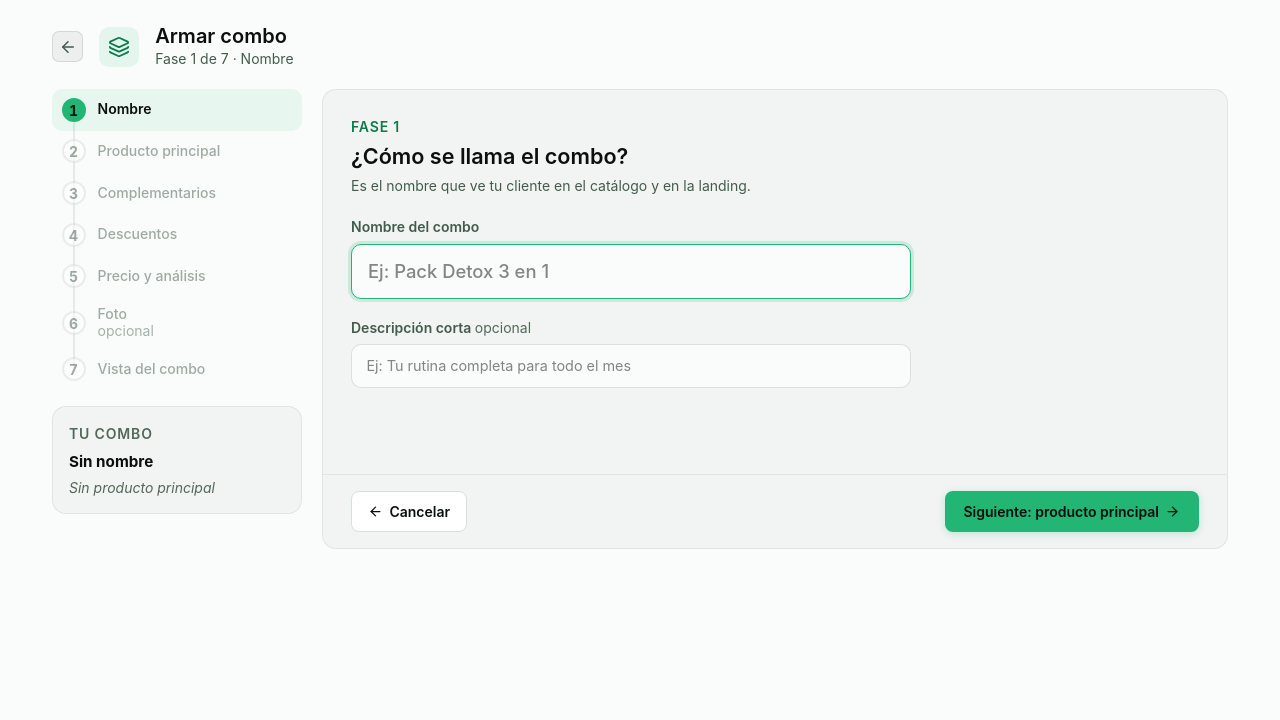
Scenario: Precios de venta durante el armado del combo › muestra el error del servidor y restaura el precio anterior
Step 1. Type "Combo cocina QA" into the field with placeholder "Ej: Pack Detox 3 en 1" → (631, 271), box [351,244,911,299]
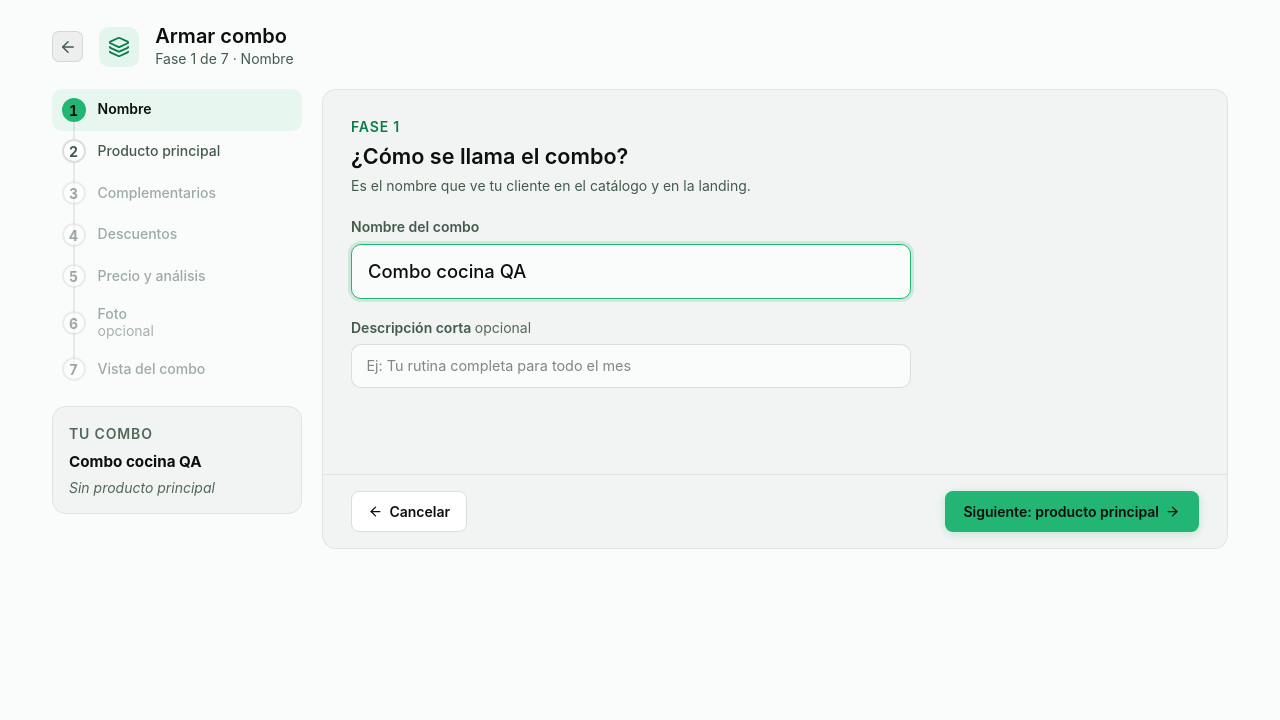
Step 2. Click the button "Siguiente: producto principal" → (1072, 512), box [945,491,1199,532]
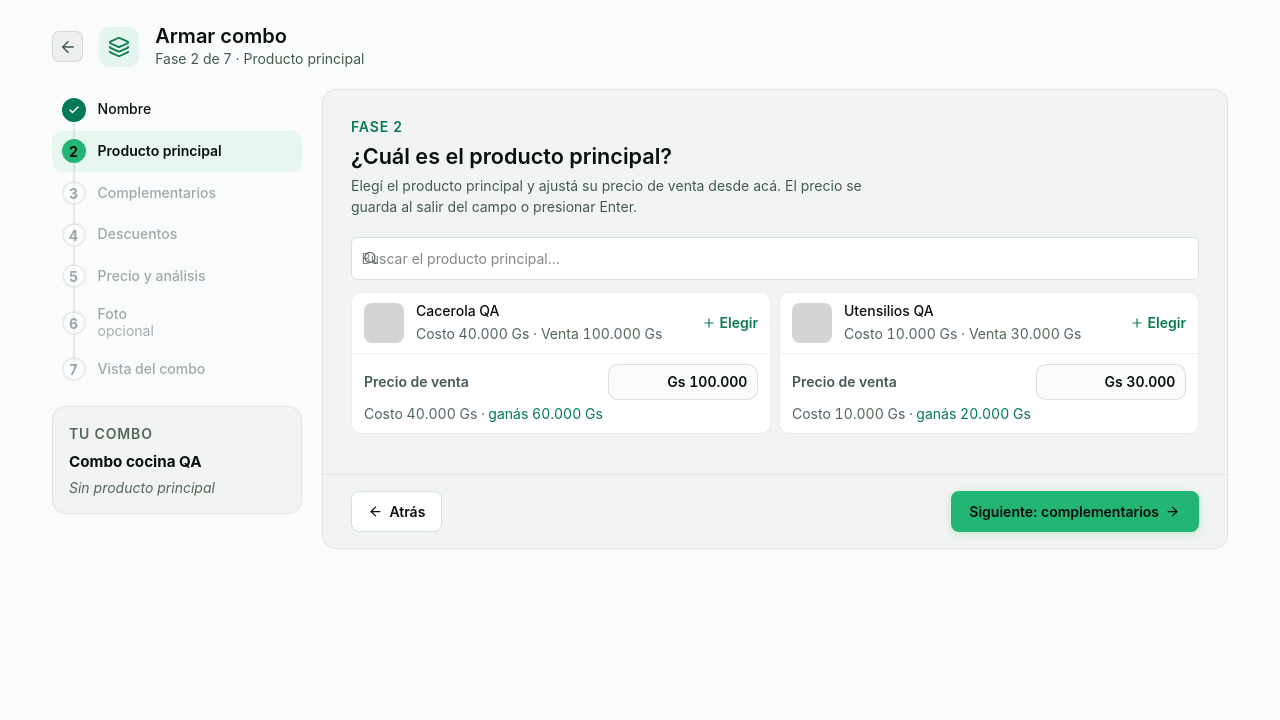
Step 3. Replace the text in the field named "Precio de venta de Cacerola QA" with "20000" → (683, 382), box [608,364,758,400]
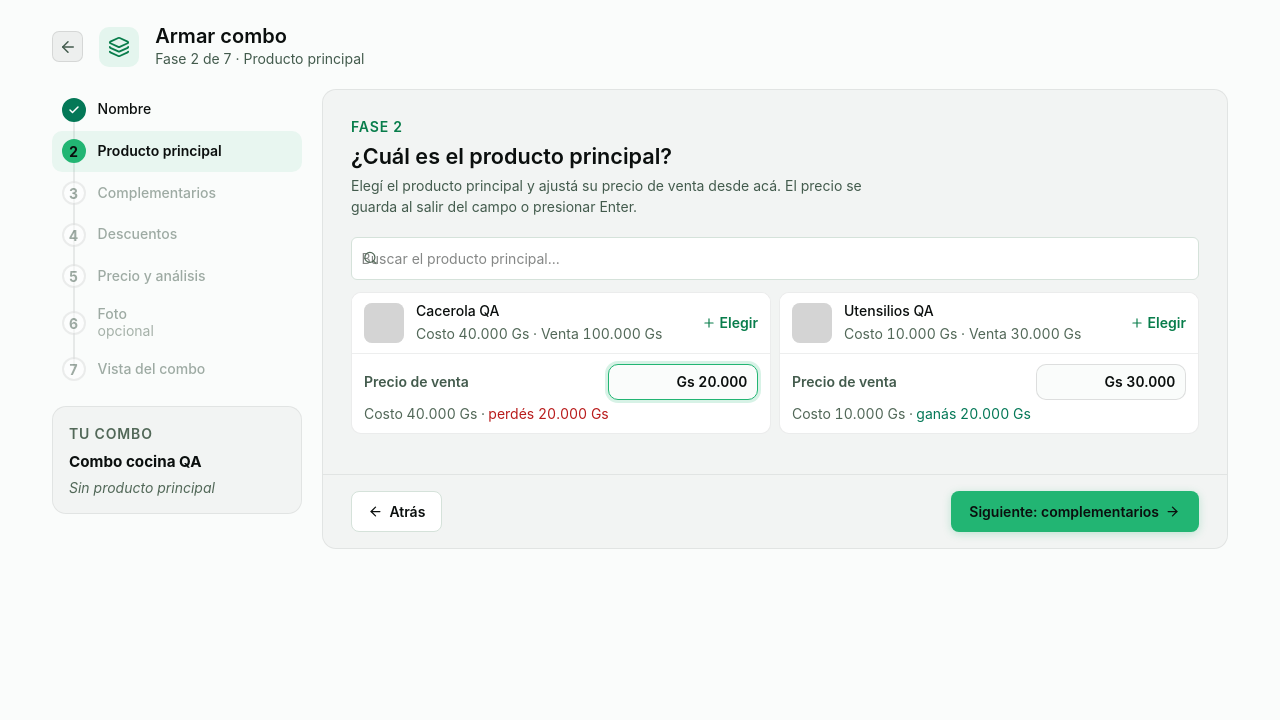
Step 4. Leave the field named "Precio de venta de Cacerola QA", box [608,364,758,400]
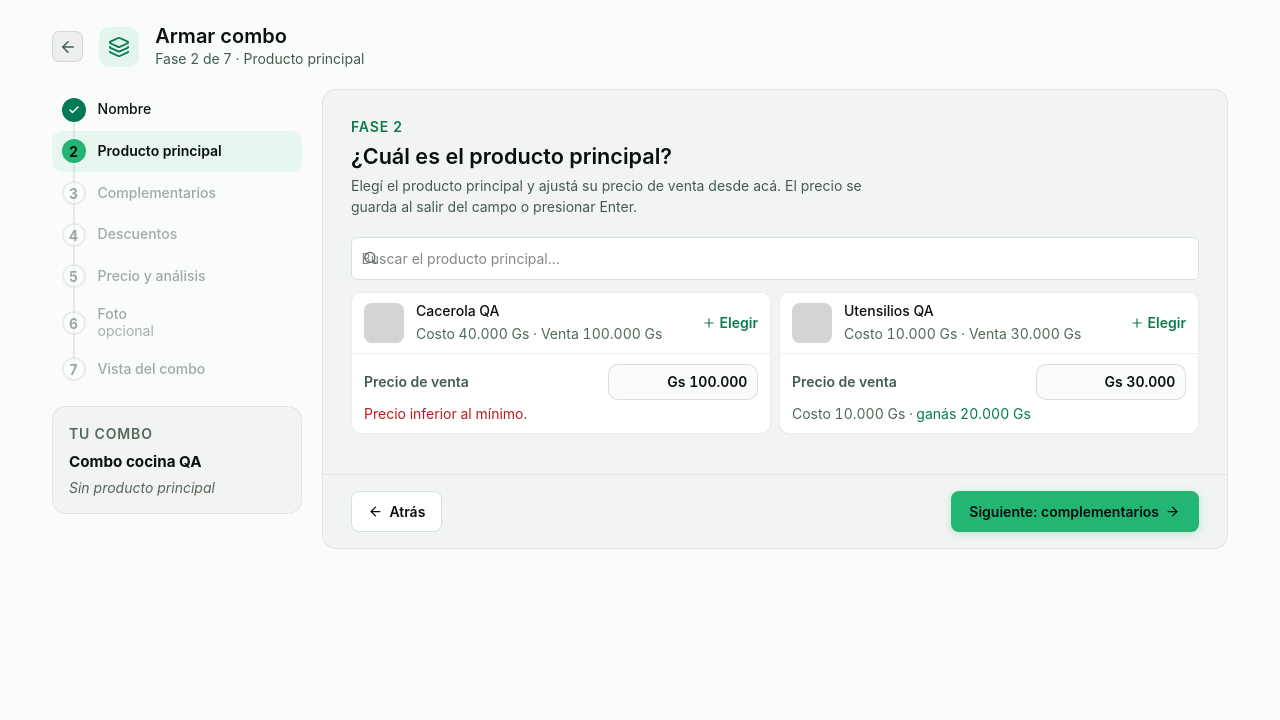
Now the text "Precio inferior al mínimo." is shown, box [364,405,527,422]
Now the field named "Precio de venta de Cacerola QA" holds "Gs 100.000", box [608,364,758,400]
